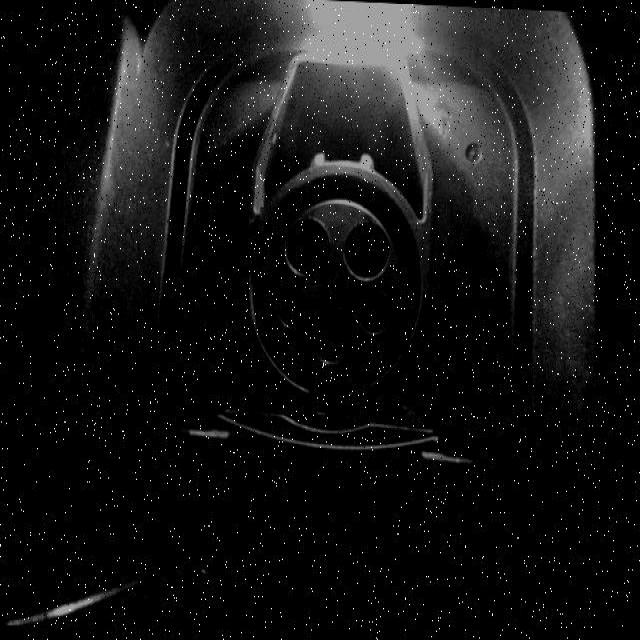Type 1: (235, 193, 424, 410)
